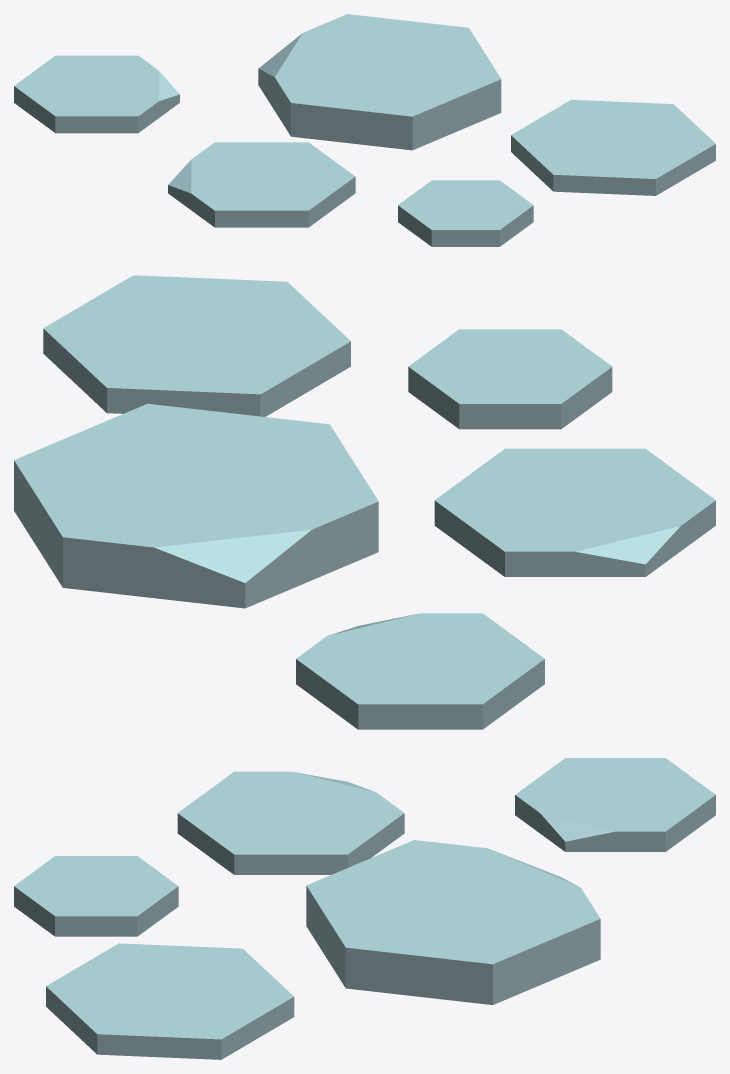
The model's file is path_stoneCorner.glb.
The picture shows the model from 3 angles, top to bottom: view 1: azimuth 30°, elevation 25°; view 2: azimuth 150°, elevation 25°; view 3: azimuth 270°, elevation 25°; orthographic projection. The views are drawn at different scales.
Visible parts, largest first — view 1: path_stoneCorner; view 2: path_stoneCorner; view 3: path_stoneCorner.
Part boxes in pixels (left/top/right/bottom): path_stoneCorner: left=14, top=14, right=715, bottom=246; path_stoneCorner: left=14, top=275, right=715, bottom=729; path_stoneCorner: left=14, top=758, right=715, bottom=1059.
Bounding box in the file's own units: 0.7383 × 0.05 × 0.7784.
